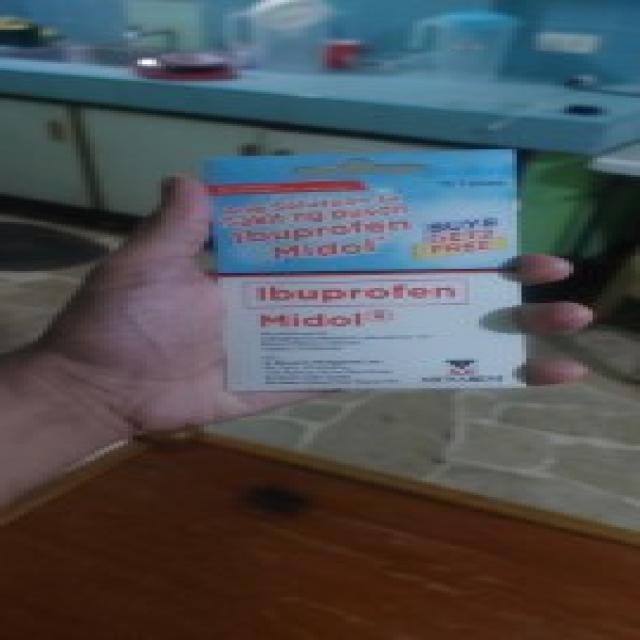Cacat: (206, 151, 514, 392)
